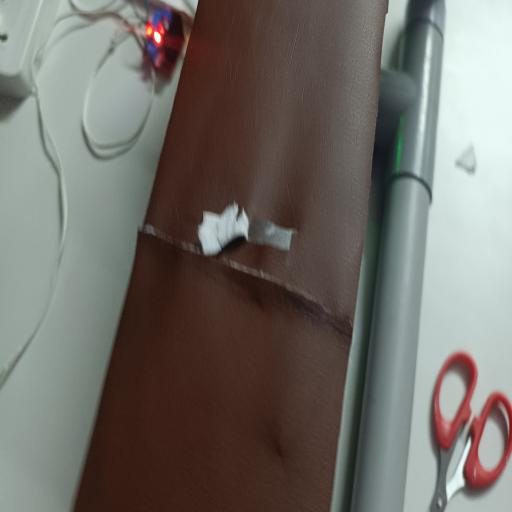joint_damage: (146, 142, 381, 354)
